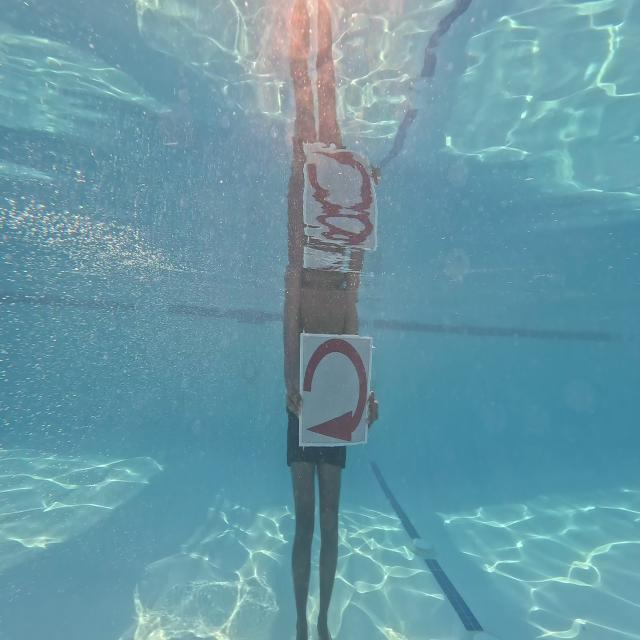red_side: (299, 332, 372, 445)
